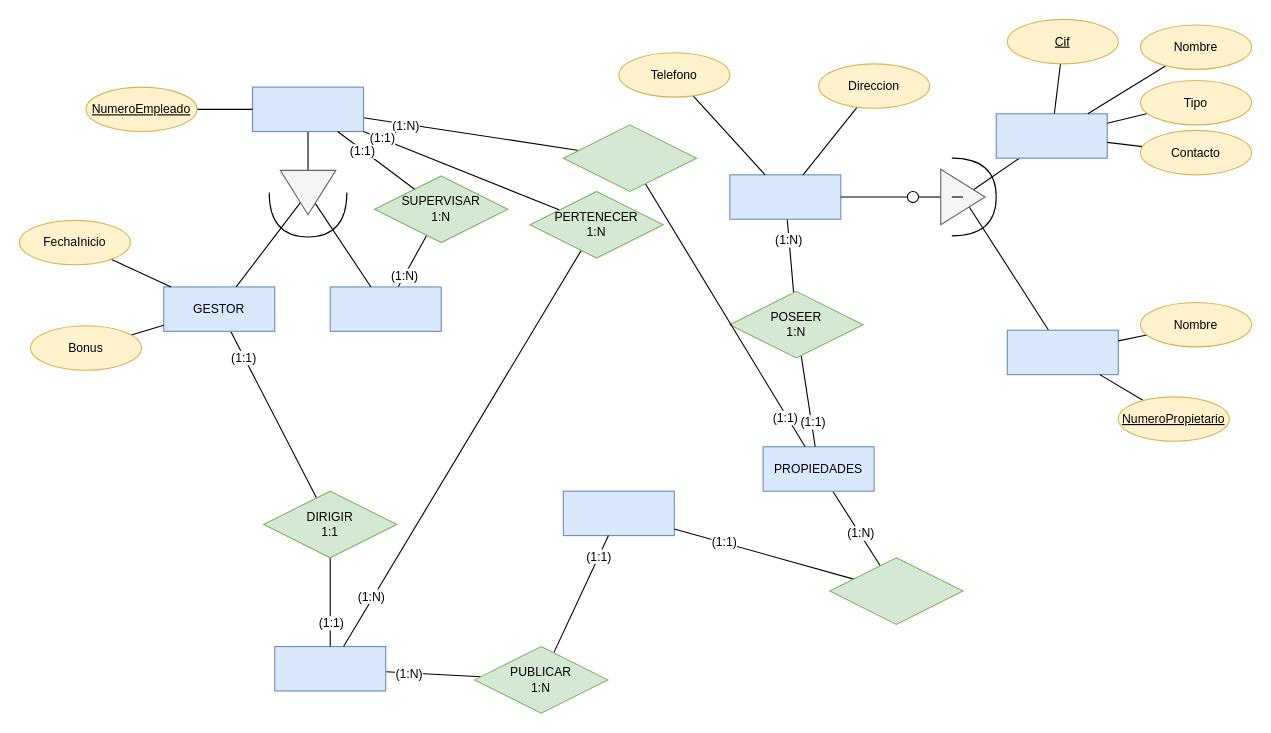
The diagram is 1271 pixels wide and 733 high, and some of its shapes have lost their labels. Here are the shapes that lost their labels. From the top down, the box of each, then its label:
(251, 86, 364, 132): EMPLEADO
(995, 113, 1107, 158): COMERCIAL
(562, 124, 697, 191): GESTIONAR 1:N
(729, 174, 841, 219): PROPIETARIOS
(329, 286, 441, 331): SUPERVISOR
(1006, 329, 1118, 375): PRIVADO
(562, 490, 674, 536): ANUNCIOPERIODICO
(829, 557, 963, 624): APARECER 1:N
(274, 645, 386, 691): OFICINA
